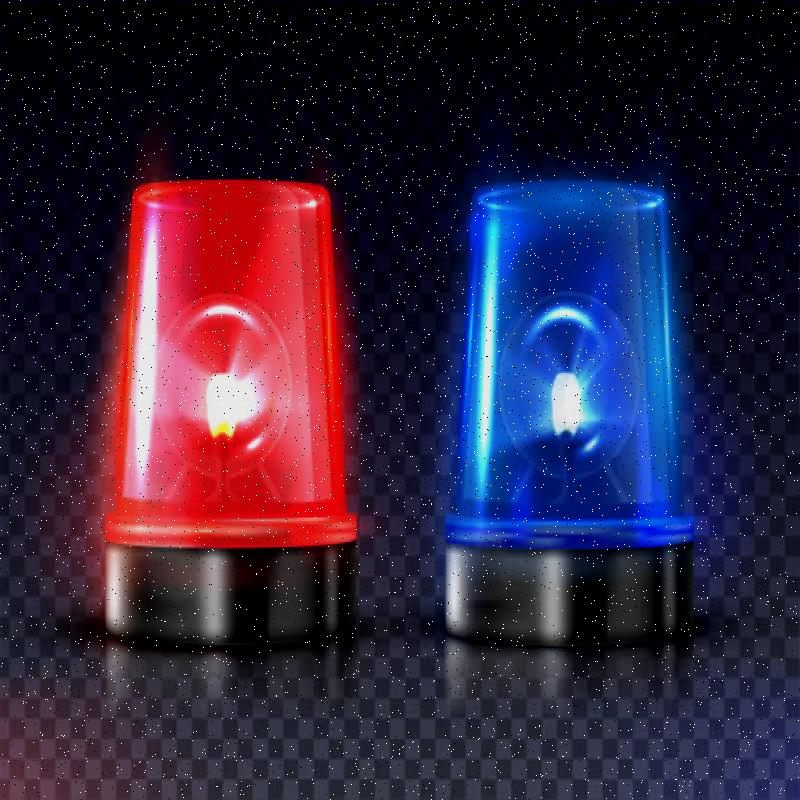AmbulanceSiren: (418, 136, 699, 684), (86, 129, 368, 670)
